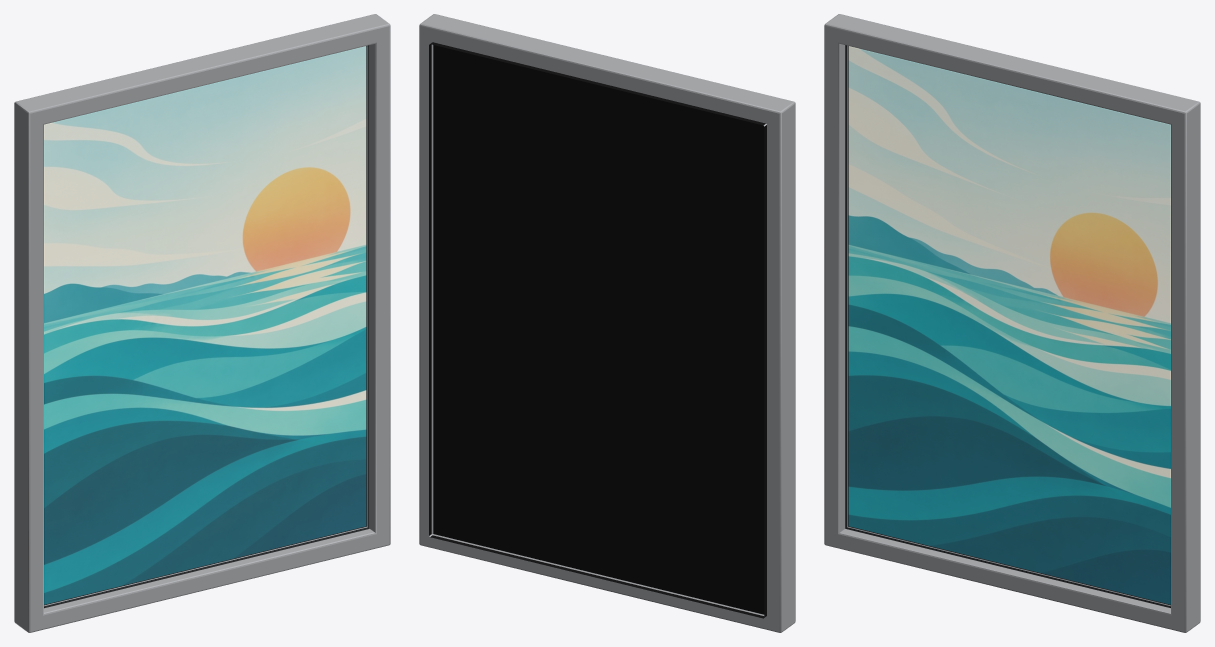
Rendered from gteki_poster_lightbox_01.glb.
3 renders of one model, left to right at view 1: azimuth 30°, elevation 25°; view 2: azimuth 150°, elevation 25°; view 3: azimuth 330°, elevation 25°, orthographic.
Visible parts, largest first — view 1: VIS_body; view 2: VIS_body; view 3: VIS_body.
Boxes of the visible parts, x1,y1,x2,y2 form: VIS_body: (14,14,390,632); VIS_body: (419,14,795,632); VIS_body: (824,14,1200,632).
Size of what is drawn, in the model's own units: 0.8 by 1.1 by 0.07.
3 materials, 3 textured.
